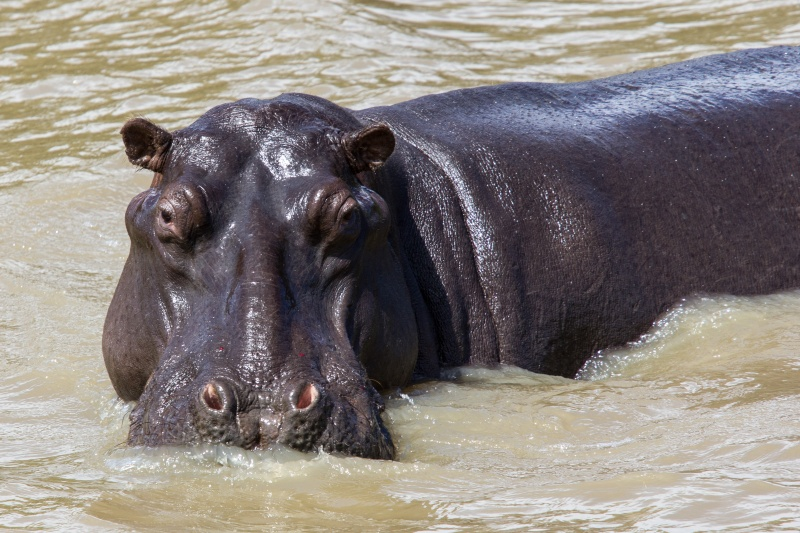hipopotamo: (94, 71, 800, 463)
